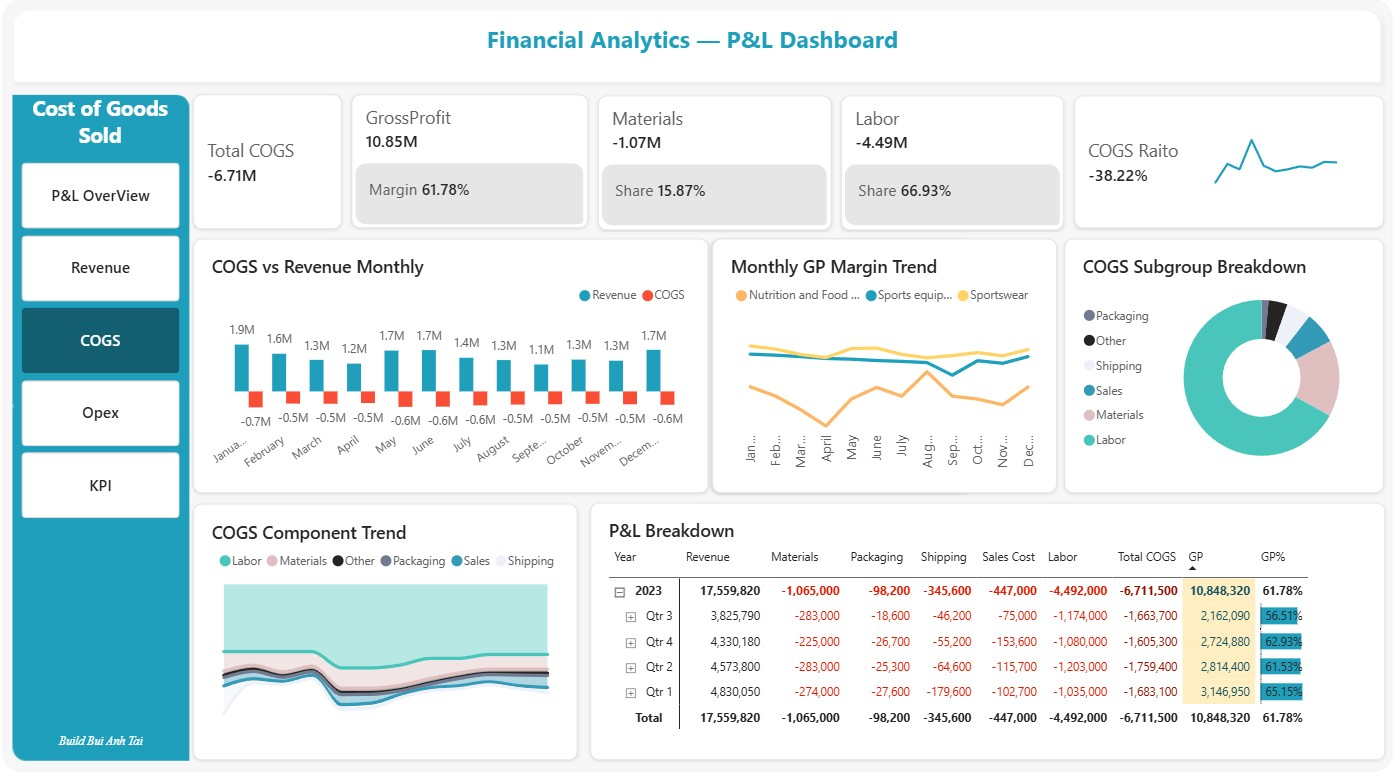

The page's visual inventory and layout, read from the dashboard file:
{"tool":"powerbi","page":{"name":"COGS","canvas":[1280,720],"ordinal":2},"visuals":[{"type":"stackedAreaChart","title":"COGS Component Trend","fields":{"Category":["Calendar.Date.Variation.Date Hierarchy.Year","Calendar.Date.Variation.Date Hierarchy.Quarter","Calendar.Date.Variation.Date Hierarchy.Month","Calendar.Date.Variation.Date Hierarchy.Day"],"Series":["Subgroup.Subgroup"],"Y":["_M.M_COGS"]},"box":[181.1,466.7,350,233.3],"z":0},{"type":"clusteredColumnChart","title":"COGS vs Revenue Monthly","fields":{"Category":["Calendar.Date.Variation.Date Hierarchy.Year","Calendar.Date.Variation.Date Hierarchy.Quarter","Calendar.Date.Variation.Date Hierarchy.Month","Calendar.Date.Variation.Date Hierarchy.Day"],"Y":["_M.M_Revenue","_M.M_COGS"]},"box":[181.1,225.6,468.9,232.2],"z":1000},{"type":"cardVisual","title":"GrossProfit","fields":{"Data":["_M.M_COGS"]},"box":[181,94,135,123],"z":2000},{"type":"cardVisual","title":"GrossProfit","fields":{"Data":["_M.M_GrossProfit"]},"box":[325,94.4,215.6,122.2],"z":3000},{"type":"cardVisual","title":"GrossProfit","fields":{"Data":["_M.M_COGS_Ratio"]},"box":[983,95,282,121],"z":4000},{"type":"cardVisual","title":"GrossProfit","fields":{"Data":["_M.M_Materials"]},"box":[549.6,94.6,212.3,122.3],"z":5000},{"type":"cardVisual","title":"GrossProfit","fields":{"Data":["_M.M_Labor"]},"box":[770.9,94.6,203.1,122.3],"z":6000},{"type":"donutChart","title":"COGS Subgroup Breakdown","fields":{"Category":["Subgroup.Subgroup"],"Y":["_M.M_COGS"]},"box":[974.4,225.6,291.1,232.2],"z":7000},{"type":"pivotTable","title":"P&L Breakdown","fields":{"Rows":["Calendar.Date.Variation.Date Hierarchy.Year","Calendar.Date.Variation.Date Hierarchy.Quarter","Calendar.Date.Variation.Date Hierarchy.Month","Calendar.Date.Variation.Date Hierarchy.Day"],"Values":["_M.M_Revenue","_M.M_Materials","_M.M_Packaging","_M.M_Shipping","_M.M_Sales_Cost","_M.M_Labor","_M.M_COGS","_M.M_GrossProfit","_M.M_GrossProfitMargin"]},"box":[542.2,465.6,723.3,234.4],"z":8000},{"type":"textbox","box":[448.5,29.2,383,40.3],"z":9000},{"type":"textbox","box":[22,94,149,65],"z":10000},{"type":"barChart","title":"Gross Profit Margin by Business Line","fields":{"Category":["Business Line.Business Line"],"Y":["_M.M_GrossProfitMargin"]},"box":[652.9,225.7,237.9,232.1],"z":11000},{"type":"lineChart","fields":{"Category":["Calendar.Month"],"Y":["_M MoM.M_COGS_MoM"]},"box":[1063,108,217,95],"z":12000},{"type":"pageNavigator","box":[24.7,156,144,328.7],"z":13000},{"type":"textbox","box":[22,675,150,25],"z":14000},{"type":"lineChart","title":"Monthly GP Margin Trend","fields":{"Category":["Calendar.Month in text"],"Series":["Business Line.Business Line"],"Y":["_M.M_Net_Profit_Margin"]},"box":[653.3,225.6,313.3,232.2],"z":15000}]}

Visuals, with their boxes in screenshot pixels (x1, y1, x2, y2), scaled from the page's 1280x720 canvas onto the 1397x777 screenshot:
"COGS Component Trend" stackedAreaChart: l=198, t=504, r=580, b=755
"COGS vs Revenue Monthly" clusteredColumnChart: l=198, t=243, r=709, b=494
"GrossProfit" cardVisual: l=198, t=101, r=345, b=234
"GrossProfit" cardVisual: l=355, t=102, r=590, b=234
"GrossProfit" cardVisual: l=1073, t=103, r=1381, b=233
"GrossProfit" cardVisual: l=600, t=102, r=832, b=234
"GrossProfit" cardVisual: l=841, t=102, r=1063, b=234
"COGS Subgroup Breakdown" donutChart: l=1063, t=243, r=1381, b=494
"P&L Breakdown" pivotTable: l=592, t=502, r=1381, b=755
textbox: l=489, t=32, r=908, b=75
textbox: l=24, t=101, r=187, b=172
"Gross Profit Margin by Business Line" barChart: l=713, t=244, r=972, b=494
lineChart - Calendar.Month x _M MoM.M_COGS_MoM: l=1160, t=117, r=1396, b=219
pageNavigator: l=27, t=168, r=184, b=523
textbox: l=24, t=728, r=188, b=755
"Monthly GP Margin Trend" lineChart: l=713, t=243, r=1055, b=494
